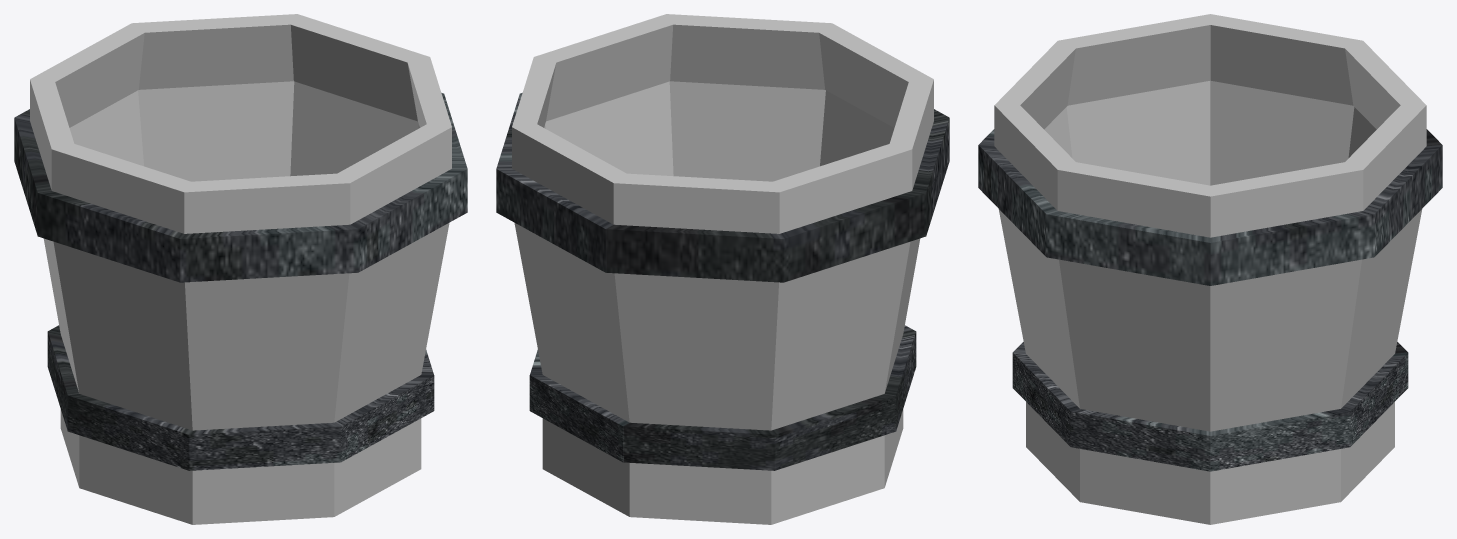
Rendered from bucket.fbx.
3 renders of one model, left to right at view 1: azimuth 30°, elevation 25°; view 2: azimuth 150°, elevation 25°; view 3: azimuth 270°, elevation 25°, orthographic.
Visible parts, largest first — view 1: Cylinder; view 2: Cylinder; view 3: Cylinder.
Boxes of the visible parts, x1,y1,x2,y2 form: Cylinder: [14, 14, 467, 524]; Cylinder: [496, 14, 949, 524]; Cylinder: [978, 14, 1442, 524].
Size of the model in its own units: 251 by 204 by 251.
